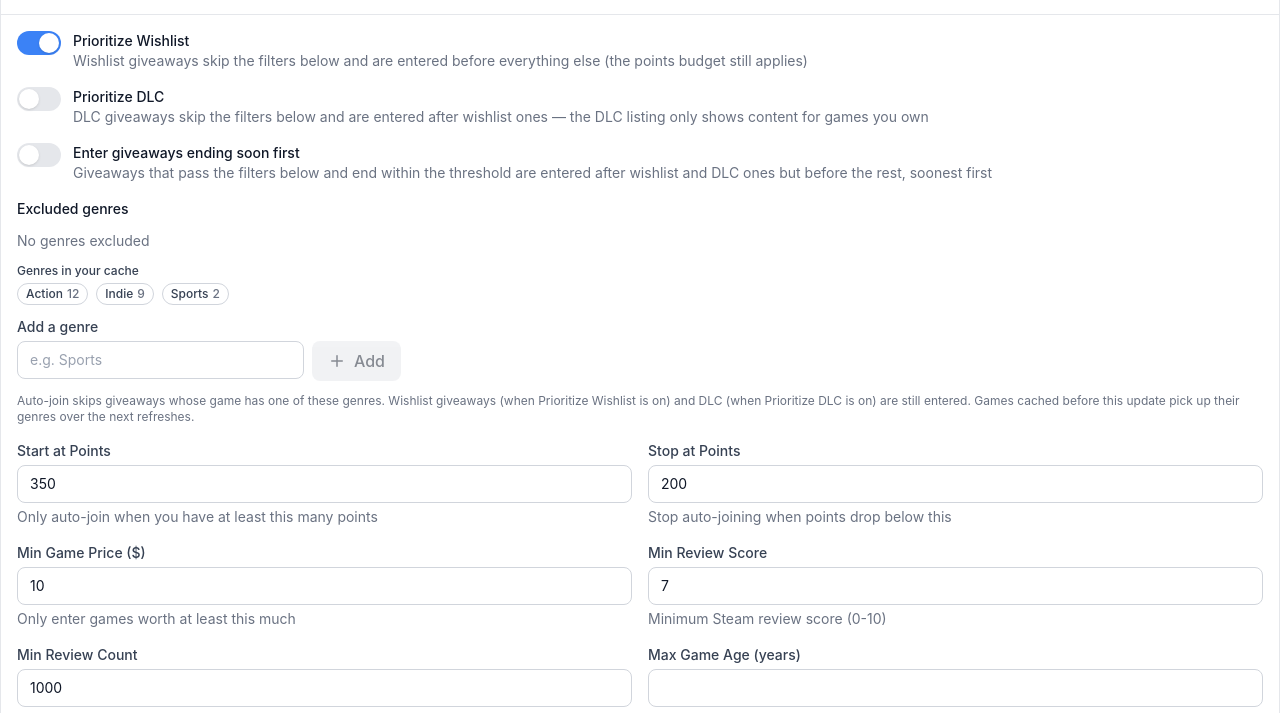
it: Settings page: excluded genres › adds a typed genre on Enter without saving the form
(page scrolled)
Type "Racing" into the field labelled "Add a genre" at (160, 360), box 17,341 -> 304,379
Then press Enter
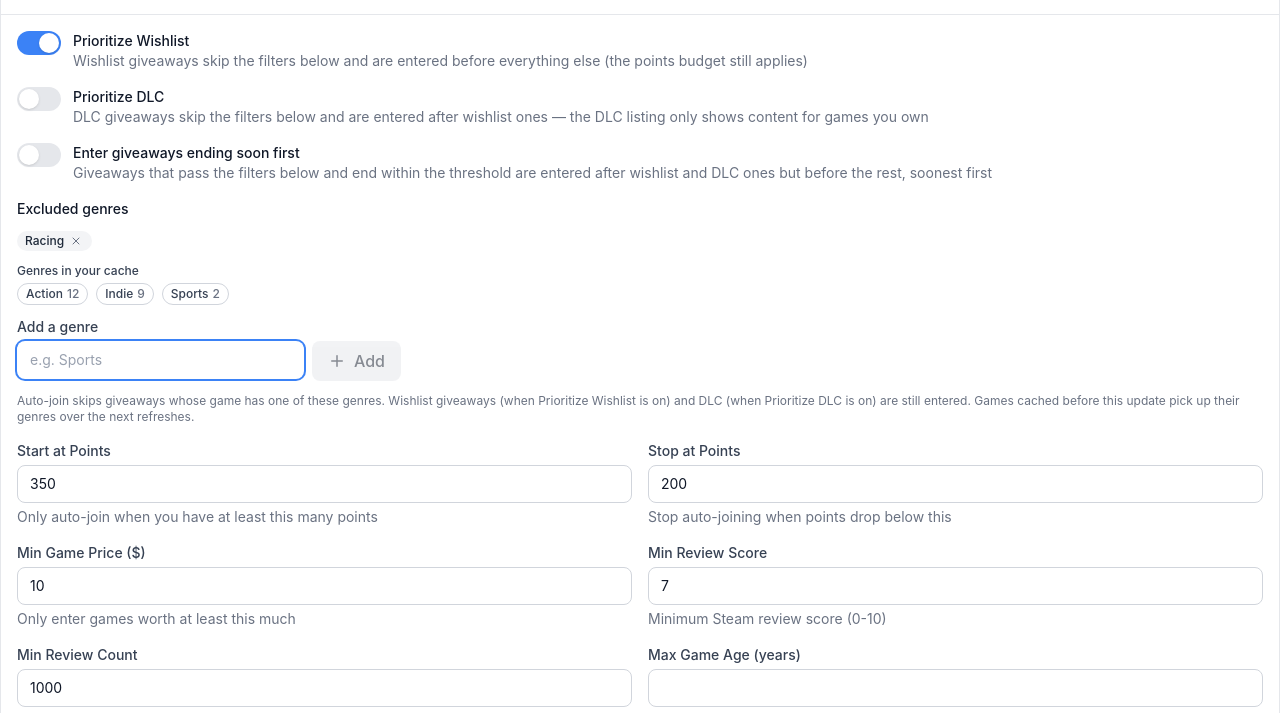
Now the text "Racing" is shown, box 25,233 -> 64,249
